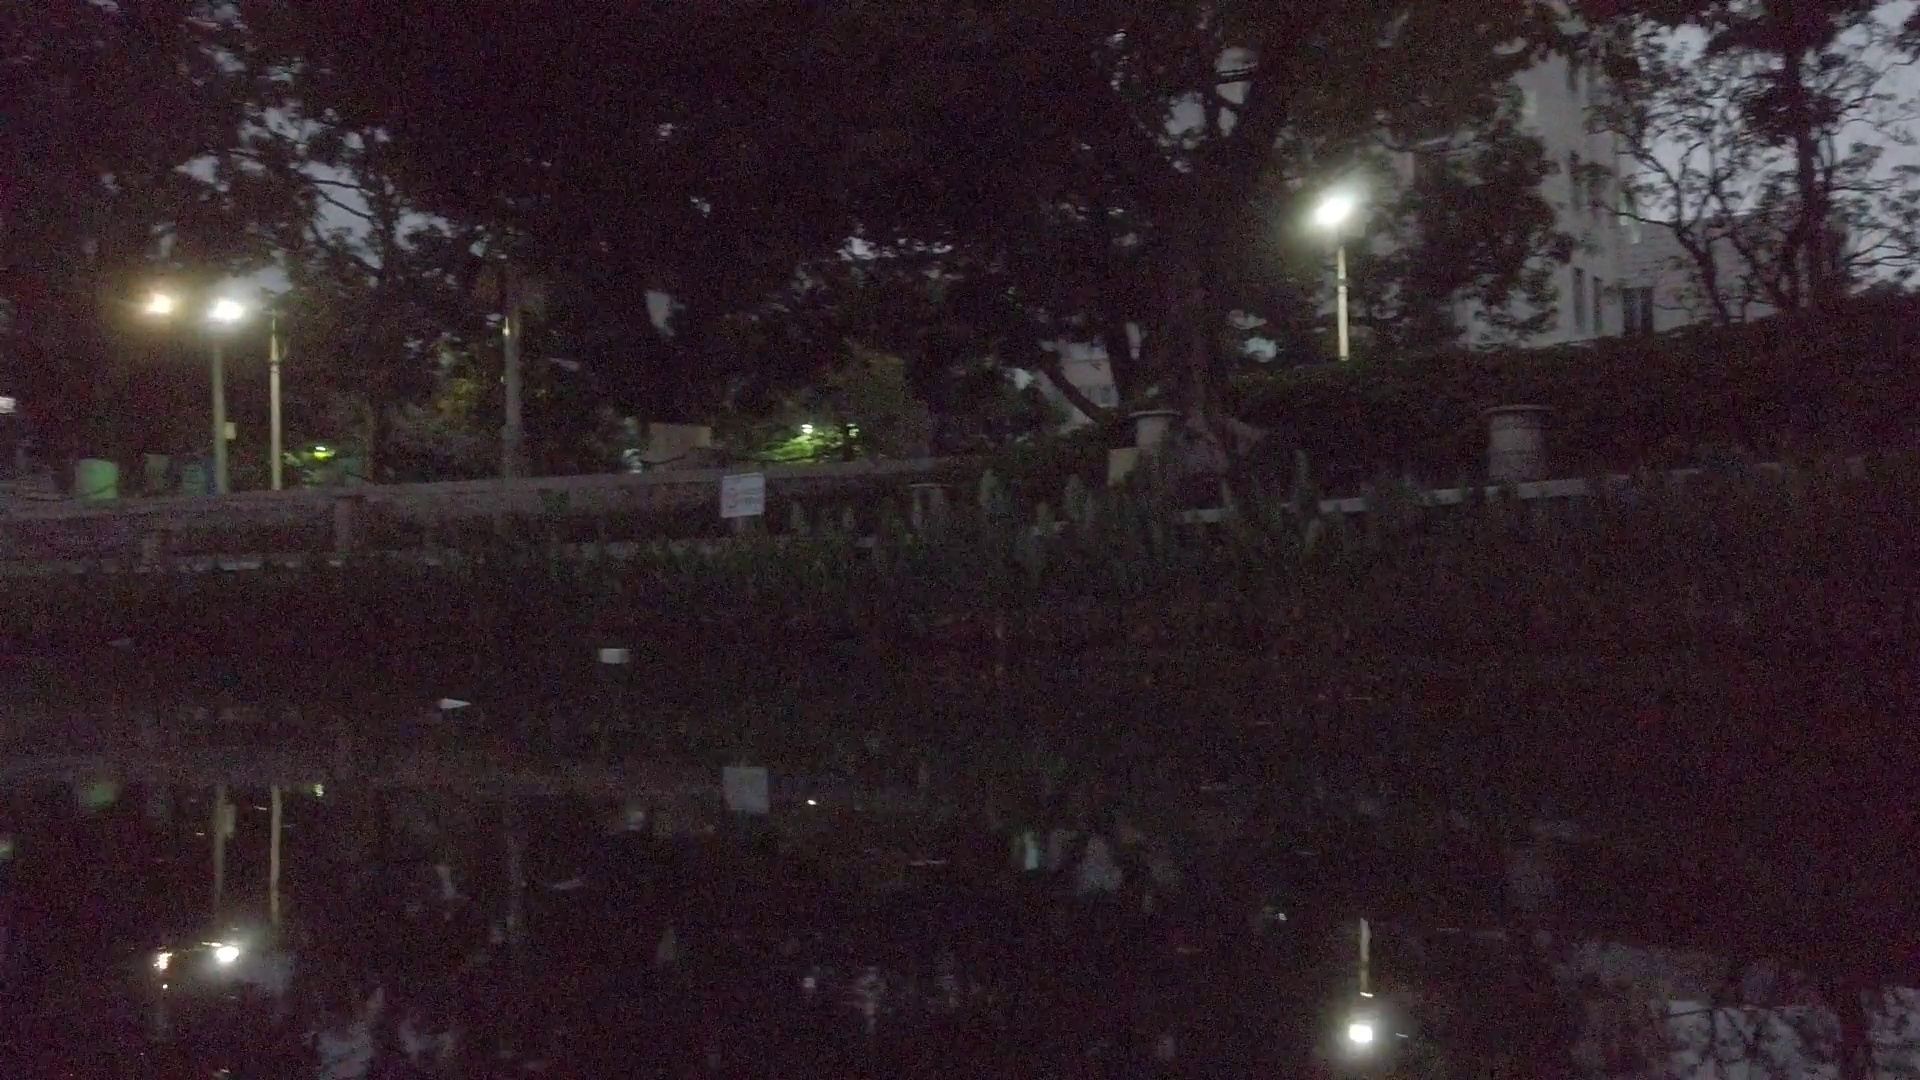carton: (599, 647, 626, 662)
paper: (436, 694, 473, 713)
